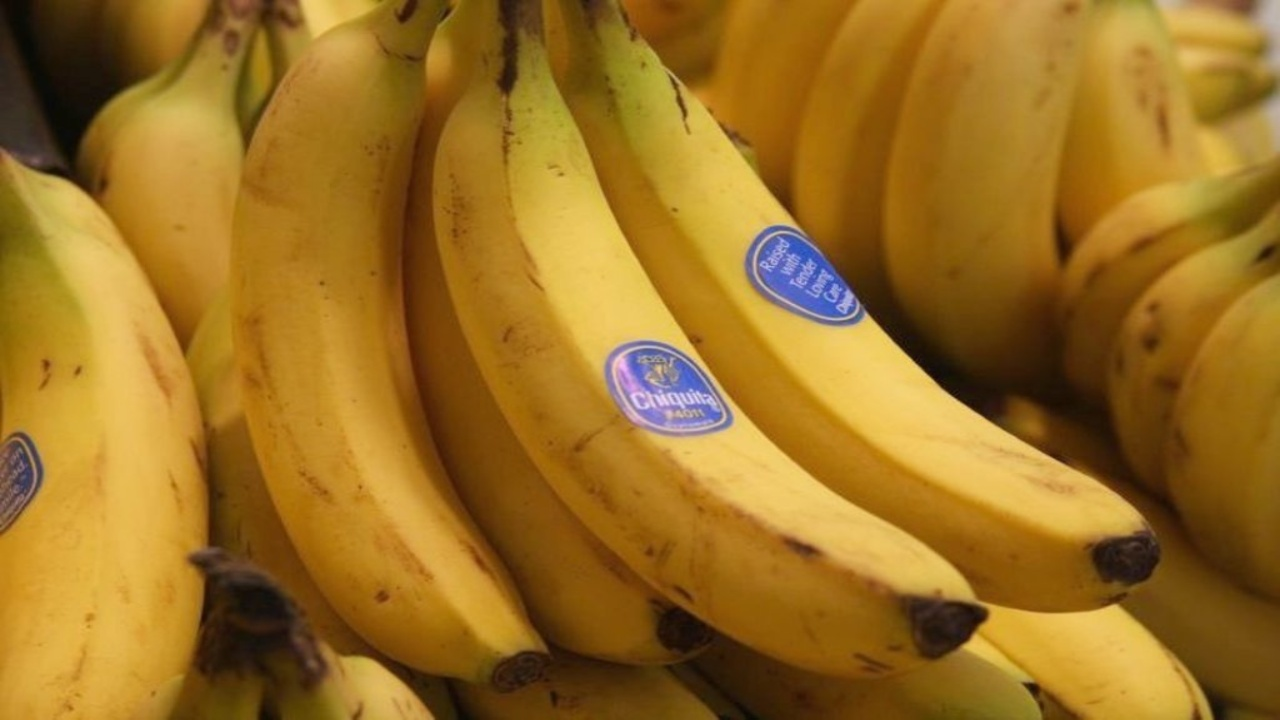banana: (221, 11, 1070, 669)
